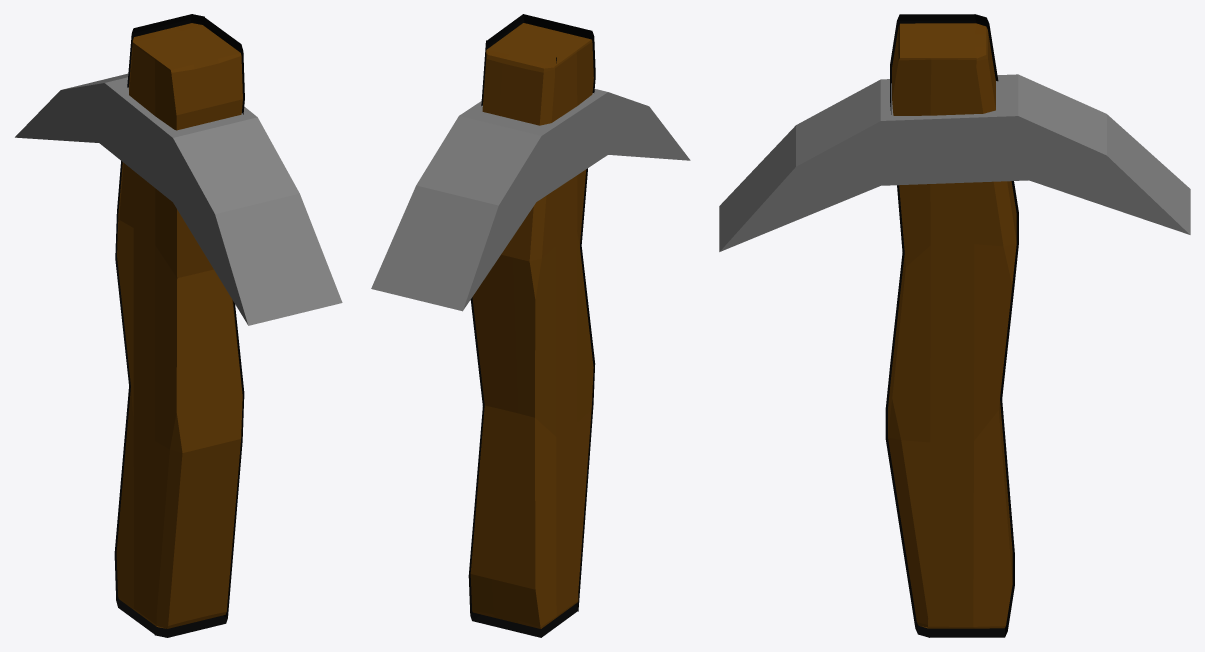
Rendered from pickaxe_model.glb.
3 views of the same model, side by side, from view 1: azimuth 30°, elevation 25°; view 2: azimuth 150°, elevation 25°; view 3: azimuth 270°, elevation 25° (orthographic). The views are drawn at different scales.
Visible parts, largest first — view 1: Cubo_0; view 2: Cubo_0; view 3: Cubo_0.
Boxes of the visible parts, x1,y1,x2,y2 form: Cubo_0: [15, 14, 342, 637]; Cubo_0: [371, 14, 690, 637]; Cubo_0: [719, 14, 1190, 637].
Size of the model in its own units: 0.4864 by 2.89 by 2.09.
